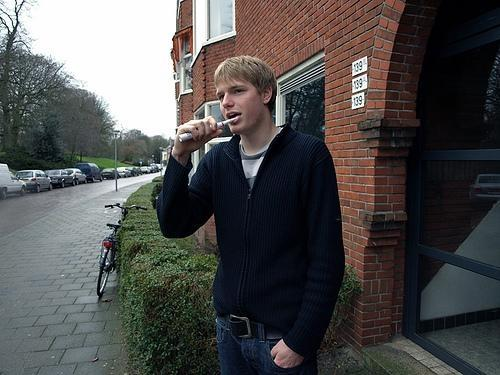bicycle: (96, 205, 148, 294)
car: (15, 170, 53, 192), (45, 168, 76, 190), (76, 163, 102, 182), (66, 169, 88, 184), (116, 167, 132, 178), (102, 167, 116, 179), (128, 167, 140, 176), (140, 167, 148, 174), (152, 166, 160, 173), (147, 166, 153, 174)
